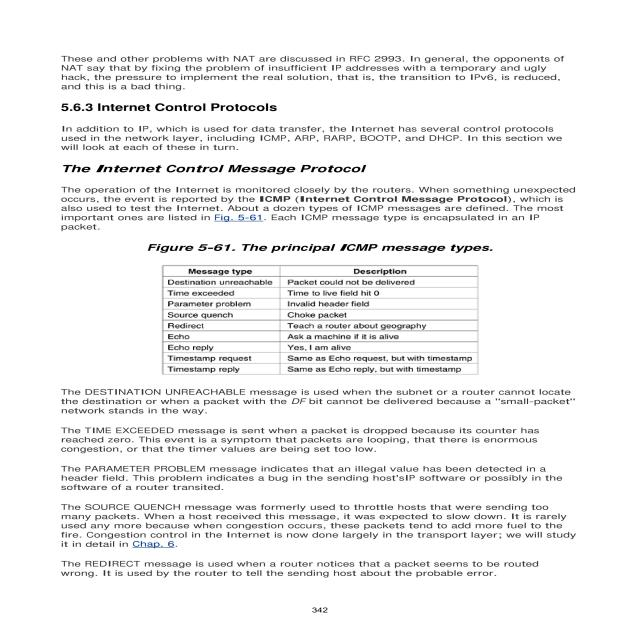diagram: (96, 234, 531, 382)
